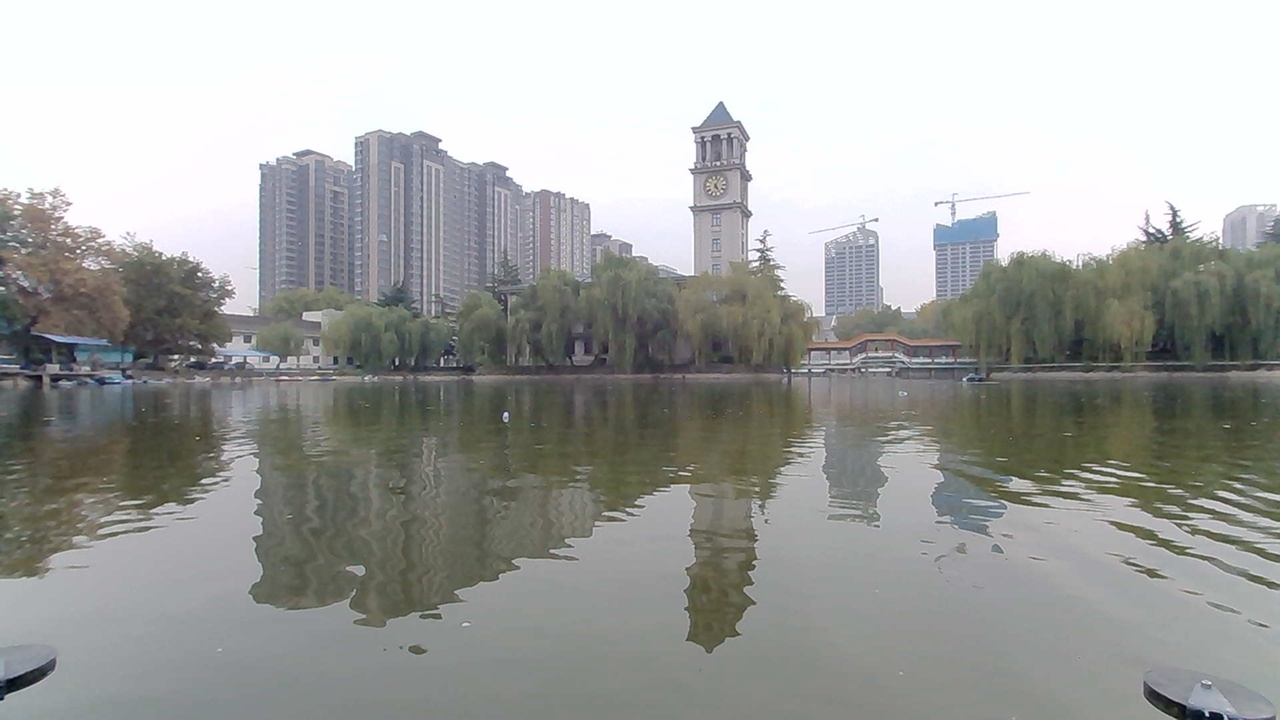bottle: (477, 400, 529, 432), (889, 383, 921, 402)
